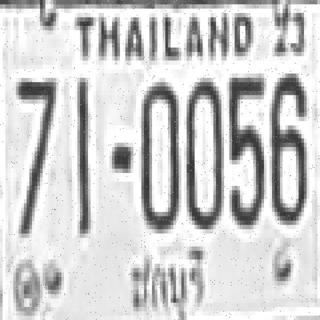N00: (139, 78, 179, 229), (184, 74, 221, 225)
N01: (76, 76, 89, 232)
N05: (228, 74, 263, 225)
N06: (269, 69, 304, 220)
N07: (15, 74, 55, 234)
P13: (120, 240, 212, 320)
